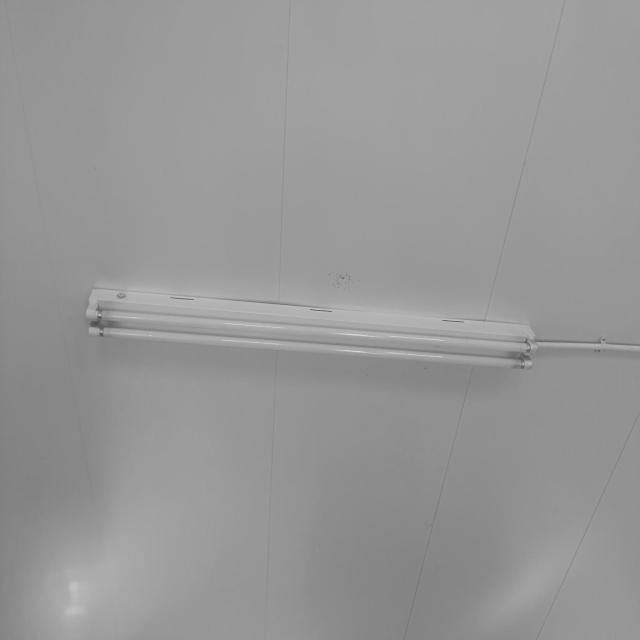light: (86, 286, 536, 370)
